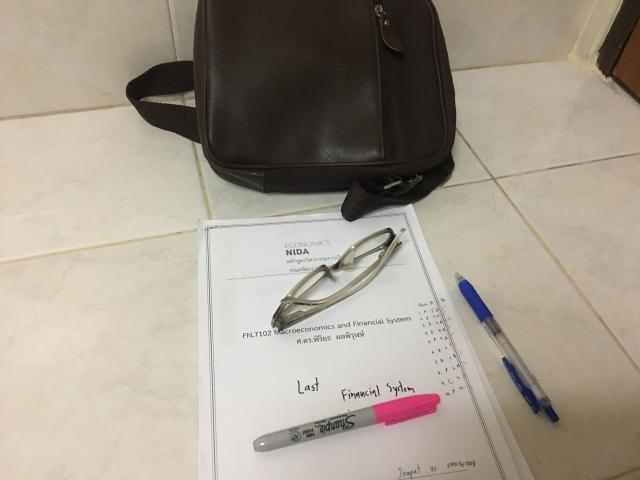Glasses: (271, 228, 405, 330)
Pen: (455, 272, 559, 422), (254, 394, 440, 451)
paper: (198, 205, 532, 479)
